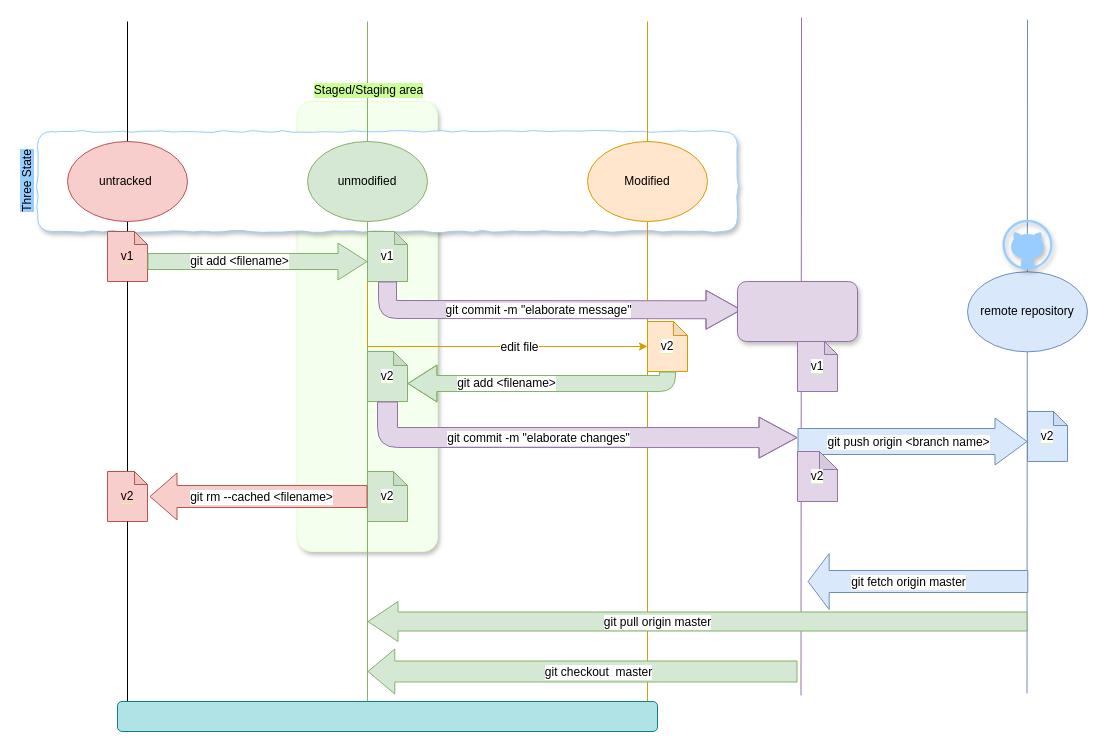
Some shapes in this 1105 by 749 pixel diagram are drawn without their labels. The shapes that lost their labels are listed below. From the top down, each one's centre as x and y in pixels, then its label:
(x=798, y=312): local repository
(x=387, y=716): workspace
